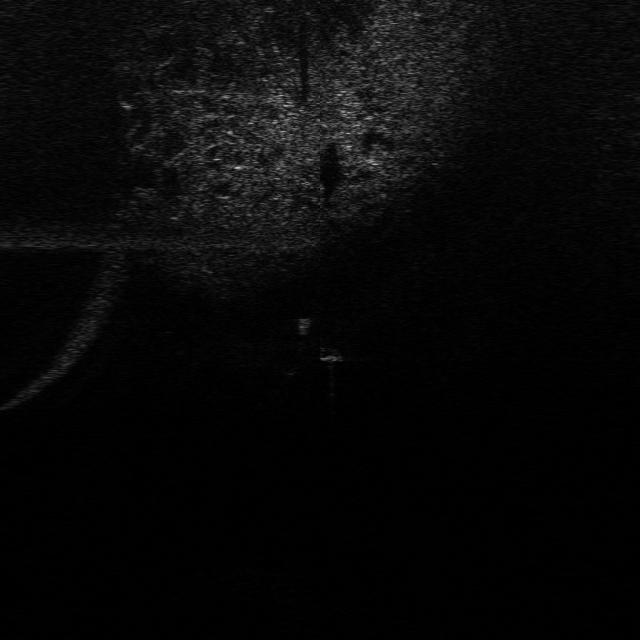cube: (316, 345, 346, 366)
cylinder: (289, 313, 312, 338)
